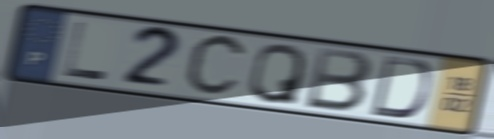2: (117, 24, 187, 96)
B: (302, 45, 375, 115)
C: (181, 32, 251, 100)
D: (367, 54, 434, 121)
L: (61, 19, 111, 83)
Q: (246, 41, 309, 107)
